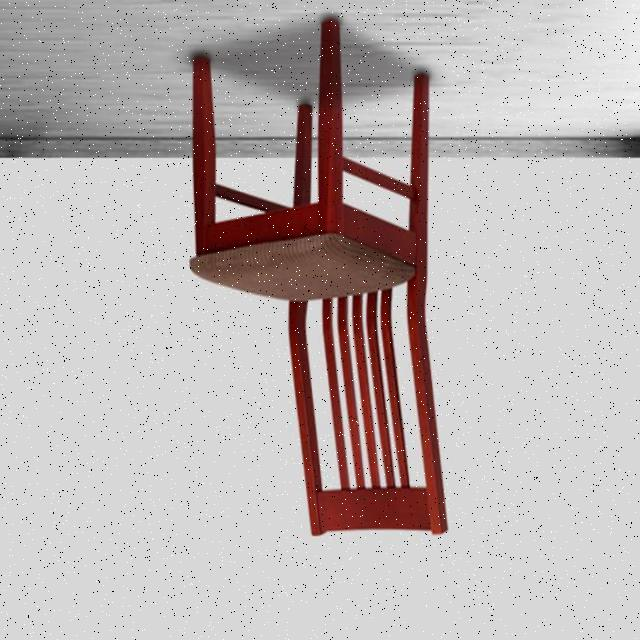bottle: (190, 15, 454, 542)
